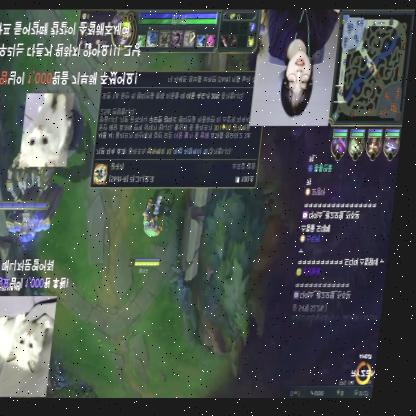donation: (0, 16, 147, 172), (0, 256, 80, 398)
streamer: (256, 8, 342, 120)
